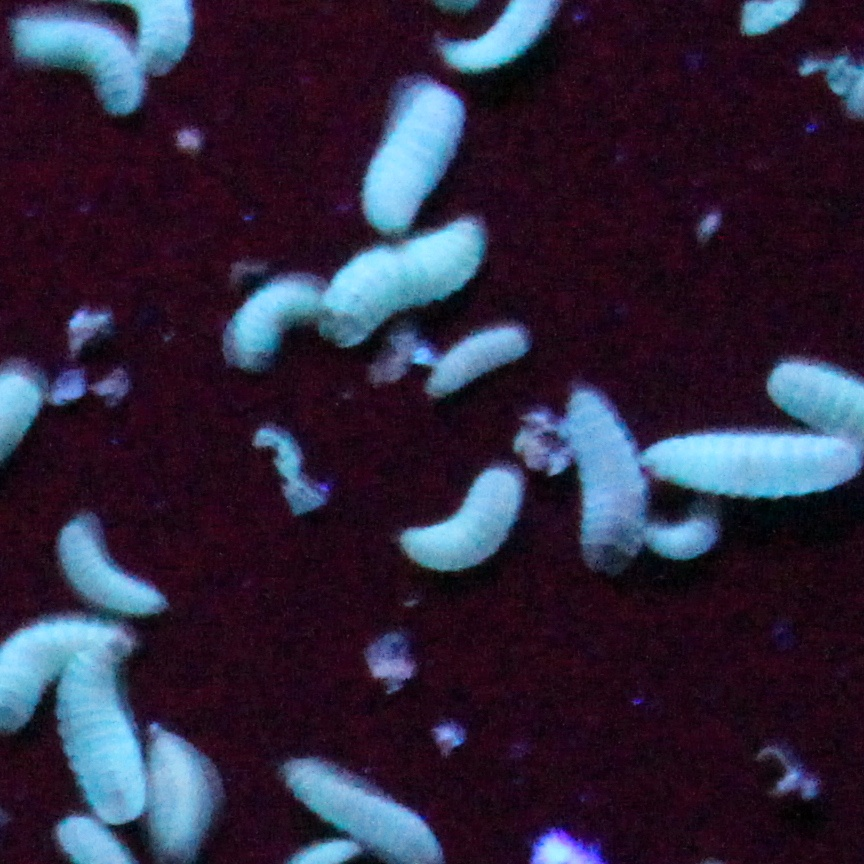larve: (326, 225, 480, 341), (560, 397, 642, 575), (360, 89, 465, 227), (642, 435, 858, 496), (401, 470, 522, 575), (11, 19, 139, 113), (62, 524, 165, 616), (79, 654, 127, 816), (233, 272, 312, 370), (426, 327, 530, 391)
